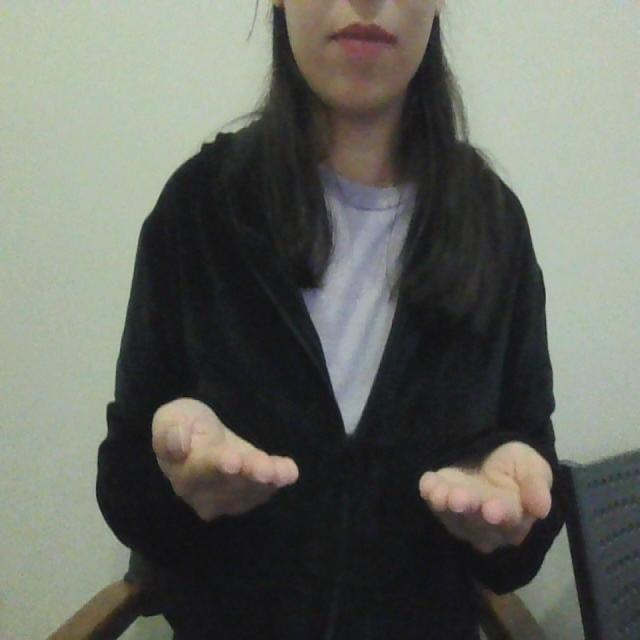Evet: (149, 393, 559, 562)
